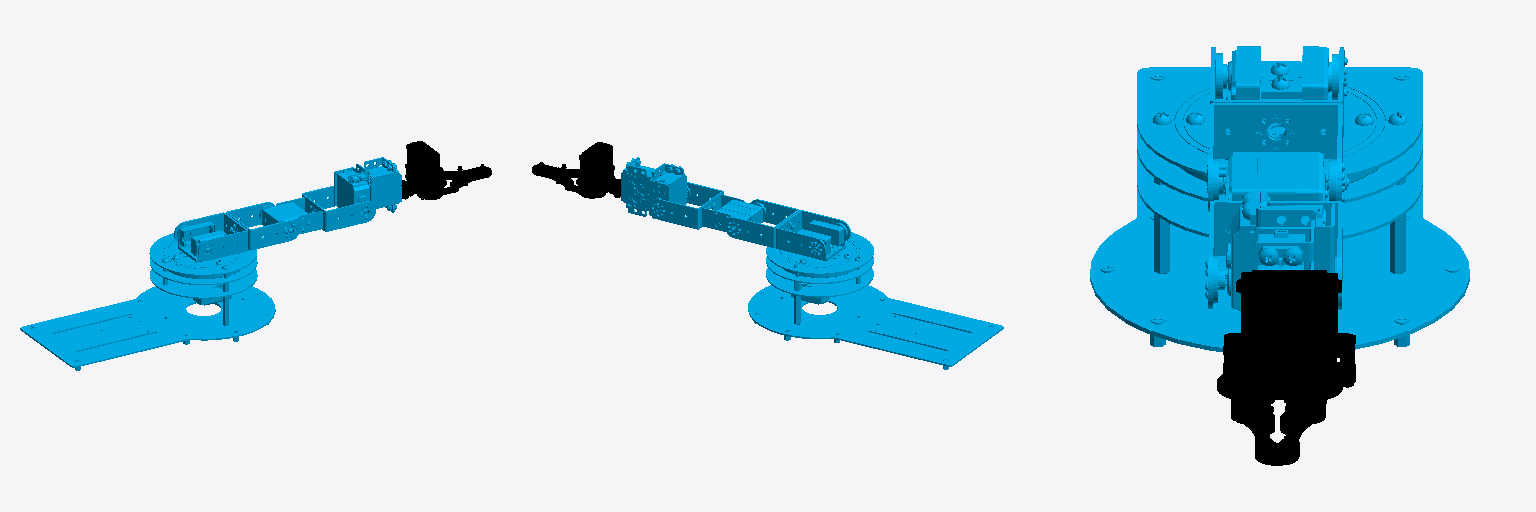
The robot description file, URDF, robot "urdf6":
<?xml version="1.0" encoding="utf-8"?>
<!-- This URDF was automatically created by SolidWorks to URDF Exporter! Originally created by [author] ([email redacted]) 
     Commit Version: 1.6.0-4-g7f85cfe  Build Version: 1.6.7995.38578
     For more information, please see http://wiki.ros.org/sw_urdf_exporter -->
<robot
  name="urdf6">
  <link
    name="base_link">
    <inertial>
      <origin
        xyz="-0.0248612900720648 5.15808425791738E-05 0.0257005781501831"
        rpy="0 0 0" />
      <mass
        value="0.157989247991023" />
      <inertia
        ixx="0.000160717268136009"
        ixy="-2.26359279519278E-08"
        ixz="1.13261604662229E-08"
        iyy="0.000484569759943897"
        iyz="-1.63837544373435E-09"
        izz="0.000642058115947469" />
    </inertial>
    <visual>
      <origin
        xyz="0 0 0"
        rpy="0 0 0" />
      <geometry>
        <mesh
          filename="package://urdf6/meshes/base_link.STL" />
      </geometry>
      <material
        name="blue">
        <color
          rgba="0 0.74902 1 1" />
      </material>
    </visual>
    <collision>
      <origin
        xyz="0 0 0"
        rpy="0 0 0" />
      <geometry>
        <mesh
          filename="package://urdf6/meshes/base_link.STL" />
      </geometry>
    </collision>
  </link>
  <link
    name="Link1">
    <inertial>
      <origin
        xyz="-0.000735950729075396 -0.00316450461559438 -0.0132139086245518"
        rpy="0 0 0" />
      <mass
        value="0.0334862007928614" />
      <inertia
        ixx="7.54519340378767E-06"
        ixy="2.73646800681559E-08"
        ixz="-7.77028147299162E-09"
        iyy="8.84236560262188E-06"
        iyz="5.68927785619994E-11"
        izz="1.52828353460216E-05" />
    </inertial>
    <visual>
      <origin
        xyz="0 0 0"
        rpy="0 0 0" />
      <geometry>
        <mesh
          filename="package://urdf6/meshes/Link1.STL" />
      </geometry>
      <material
        name="blue">
      </material>
    </visual>
    <collision>
      <origin
        xyz="0 0 0"
        rpy="0 0 0" />
      <geometry>
        <mesh
          filename="package://urdf6/meshes/Link1.STL" />
      </geometry>
    </collision>
  </link>
  <joint
    name="joint1"
    type="revolute">
    <origin
      xyz="0 0 0.0855"
      rpy="0 0 0" />
    <parent
      link="base_link" />
    <child
      link="Link1" />
    <axis
      xyz="0 0 -1" />
    <limit
      lower="-3.14"
      upper="3.14"
      effort="100"
      velocity="1" />
  </joint>
  <link
    name="Link2">
    <inertial>
      <origin
        xyz="0.0535085313222871 1.2430559344051E-05 0.000405763386037301"
        rpy="0 0 0" />
      <mass
        value="0.0204399399320765" />
      <inertia
        ixx="1.04032800294958E-05"
        ixy="-3.10679600529331E-12"
        ixz="1.32975907417748E-13"
        iyy="1.58509378070645E-05"
        iyz="-1.08271171402781E-13"
        izz="7.34430021365749E-06" />
    </inertial>
    <visual>
      <origin
        xyz="0 0 0"
        rpy="0 0 0" />
      <geometry>
        <mesh
          filename="package://urdf6/meshes/Link2.STL" />
      </geometry>
      <material
        name="blue">
      </material>
    </visual>
    <collision>
      <origin
        xyz="0 0 0"
        rpy="0 0 0" />
      <geometry>
        <mesh
          filename="package://urdf6/meshes/Link2.STL" />
      </geometry>
    </collision>
  </link>
  <joint
    name="joint2"
    type="revolute">
    <origin
      xyz="-0.01051 -0.00099669 0"
      rpy="1.5708 0 -0.0098339" />
    <parent
      link="Link1" />
    <child
      link="Link2" />
    <axis
      xyz="0 0 -1" />
    <limit
      lower="-3.14"
      upper="3.14"
      effort="100"
      velocity="1" />
  </joint>
  <link
    name="Link3">
    <inertial>
      <origin
        xyz="0.0254175480844936 1.19225680822038E-05 0.00190273362822913"
        rpy="0 0 0" />
      <mass
        value="0.0387990887903957" />
      <inertia
        ixx="7.43835597014779E-06"
        ixy="4.87801495765705E-11"
        ixz="-4.08628986204796E-08"
        iyy="1.29675618559888E-05"
        iyz="1.35888926807635E-11"
        izz="8.45420506775468E-06" />
    </inertial>
    <visual>
      <origin
        xyz="0 0 0"
        rpy="0 0 0" />
      <geometry>
        <mesh
          filename="package://urdf6/meshes/Link3.STL" />
      </geometry>
      <material
        name="blue">
      </material>
    </visual>
    <collision>
      <origin
        xyz="0 0 0"
        rpy="0 0 0" />
      <geometry>
        <mesh
          filename="package://urdf6/meshes/Link3.STL" />
      </geometry>
    </collision>
  </link>
  <joint
    name="joint3"
    type="revolute">
    <origin
      xyz="0.105 0 0"
      rpy="0 0 0" />
    <parent
      link="Link2" />
    <child
      link="Link3" />
    <axis
      xyz="0 0 1" />
    <limit
      lower="-3.14"
      upper="3.14"
      effort="100"
      velocity="1" />
  </joint>
  <link
    name="Link4">
    <inertial>
      <origin
        xyz="0.0195643885060111 0.00914096530036936 -0.00314518841617958"
        rpy="0 0 0" />
      <mass
        value="0.0366516746618713" />
      <inertia
        ixx="8.54154281167733E-06"
        ixy="2.77261542132462E-08"
        ixz="-5.29341522740372E-11"
        iyy="3.95291889014158E-06"
        iyz="3.07200810333053E-08"
        izz="8.5438139374943E-06" />
    </inertial>
    <visual>
      <origin
        xyz="0 0 0"
        rpy="0 0 0" />
      <geometry>
        <mesh
          filename="package://urdf6/meshes/Link4.STL" />
      </geometry>
      <material
        name="blue">
      </material>
    </visual>
    <collision>
      <origin
        xyz="0 0 0"
        rpy="0 0 0" />
      <geometry>
        <mesh
          filename="package://urdf6/meshes/Link4.STL" />
      </geometry>
    </collision>
  </link>
  <joint
    name="joint4"
    type="revolute">
    <origin
      xyz="0.097298 5.0253E-05 -0.00099975"
      rpy="0 0 0" />
    <parent
      link="Link3" />
    <child
      link="Link4" />
    <axis
      xyz="0 0 -1" />
    <limit
      lower="-3.14"
      upper="3.14"
      effort="100"
      velocity="1" />
  </joint>
  <link
    name="Link5">
    <inertial>
      <origin
        xyz="0.0252800488780501 0.0128997070326028 -0.00330175268148962"
        rpy="0 0 0" />
      <mass
        value="0.0211723688311251" />
      <inertia
        ixx="3.37186721095533E-06"
        ixy="-2.35952105335188E-10"
        ixz="2.13797532983925E-08"
        iyy="4.17684129038303E-06"
        iyz="-2.92499805972119E-08"
        izz="1.66712173678932E-06" />
    </inertial>
    <visual>
      <origin
        xyz="0 0 0"
        rpy="0 0 0" />
      <geometry>
        <mesh
          filename="package://urdf6/meshes/Link5.STL" />
      </geometry>
      <material
        name="black">
        <color
          rgba="0 0 0 1" />
      </material>
    </visual>
    <collision>
      <origin
        xyz="0 0 0"
        rpy="0 0 0" />
      <geometry>
        <mesh
          filename="package://urdf6/meshes/Link5.STL" />
      </geometry>
    </collision>
  </link>
  <joint
    name="joint5"
    type="revolute">
    <origin
      xyz="0.065251 0 -0.0027894"
      rpy="0 0 0" />
    <parent
      link="Link4" />
    <child
      link="Link5" />
    <axis
      xyz="-1 0 0" />
    <limit
      lower="-3.14"
      upper="3.14"
      effort="100"
      velocity="1" />
  </joint>
  <link
    name="end_Link0">
    <inertial>
      <origin
        xyz="0.0296355356162469 -0.00397124998648044 0.00440759832825444"
        rpy="0 0 0" />
      <mass
        value="0.00649143270956223" />
      <inertia
        ixx="1.72929729416573E-07"
        ixy="1.53689854473001E-07"
        ixz="5.37299412933256E-14"
        iyy="1.14018601979861E-06"
        iyz="-1.05537817237379E-14"
        izz="1.27470848029133E-06" />
    </inertial>
    <visual>
      <origin
        xyz="0 0 0"
        rpy="0 0 0" />
      <geometry>
        <mesh
          filename="package://urdf6/meshes/end_Link0.STL" />
      </geometry>
      <material
        name="black">
      </material>
    </visual>
    <collision>
      <origin
        xyz="0 0 0"
        rpy="0 0 0" />
      <geometry>
        <mesh
          filename="package://urdf6/meshes/end_Link0.STL" />
      </geometry>
    </collision>
  </link>
  <joint
    name="joint6"
    type="revolute">
    <origin
      xyz="0.026999 -0.00725 -0.013999"
      rpy="-1.5708 0.020997 0" />
    <parent
      link="Link5" />
    <child
      link="end_Link0" />
    <axis
      xyz="0 0 1" />
    <limit
      lower="-3.14"
      upper="3.14"
      effort="100"
      velocity="1" />
  </joint>
  <link
    name="end_Link1">
    <inertial>
      <origin
        xyz="-0.00281905203025795 0.0328600462263071 0.00442907072834259"
        rpy="0 0 0" />
      <mass
        value="0.00560091112281502" />
      <inertia
        ixx="1.13574655762712E-06"
        ixy="1.18143874272952E-07"
        ixz="9.2160252198066E-18"
        iyy="1.46465449142981E-07"
        iyz="-5.57775855618771E-18"
        izz="1.25089272976756E-06" />
    </inertial>
    <visual>
      <origin
        xyz="0 0 0"
        rpy="0 0 0" />
      <geometry>
        <mesh
          filename="package://urdf6/meshes/end_Link1.STL" />
      </geometry>
      <material
        name="black">
      </material>
    </visual>
    <collision>
      <origin
        xyz="0 0 0"
        rpy="0 0 0" />
      <geometry>
        <mesh
          filename="package://urdf6/meshes/end_Link1.STL" />
      </geometry>
    </collision>
  </link>
  <joint
    name="joint7"
    type="revolute">
    <origin
      xyz="0.027 -0.00725 0.014"
      rpy="-1.5708 -1.561 0" />
    <parent
      link="Link5" />
    <child
      link="end_Link1" />
    <axis
      xyz="0 0 -1" />
    <limit
      lower="-3.14"
      upper="3.14"
      effort="100"
      velocity="1" />
  </joint>
</robot>

--- What the picture shows (computed from the rendered views, not written in the file) ---
The picture shows the robot from 3 angles, left to right: view 1: azimuth 30°, elevation 25°; view 2: azimuth 150°, elevation 25°; view 3: azimuth 270°, elevation 25°; orthographic projection.
Robot: urdf6 — 8 links, 7 joints (7 revolute); root link base_link; default pose: all joints at 0.
Visible links, largest first — view 1: base_link, Link2, Link3, Link4, Link5, Link1, end_Link1; view 2: base_link, Link2, Link3, Link4, Link5, Link1, end_Link0; view 3: base_link, Link5, Link2, Link3, Link4, Link1, end_Link0, end_Link1.
Link boxes in pixels (left/top/right/bottom): base_link: left=20, top=233, right=275, bottom=370; Link2: left=174, top=202, right=299, bottom=260; Link3: left=262, top=186, right=375, bottom=234; Link4: left=334, top=157, right=401, bottom=215; Link5: left=401, top=141, right=446, bottom=199; Link1: left=167, top=221, right=239, bottom=267; end_Link1: left=417, top=167, right=491, bottom=199; base_link: left=748, top=232, right=1003, bottom=369; Link2: left=725, top=199, right=850, bottom=258; Link3: left=649, top=182, right=762, bottom=231; Link4: left=621, top=157, right=686, bottom=218; Link5: left=576, top=142, right=620, bottom=197; Link1: left=784, top=220, right=856, bottom=265; end_Link0: left=532, top=165, right=605, bottom=198; base_link: left=1090, top=61, right=1469, bottom=351; Link5: left=1223, top=270, right=1355, bottom=412; Link2: left=1207, top=47, right=1349, bottom=211; Link3: left=1205, top=152, right=1342, bottom=309; Link4: left=1225, top=186, right=1334, bottom=310; Link1: left=1184, top=46, right=1375, bottom=151; end_Link0: left=1276, top=374, right=1342, bottom=465; end_Link1: left=1217, top=374, right=1280, bottom=465.
Bounding box of the posed robot: 0.5703 × 0.1597 × 0.139 m (x, y, z).
Meshes: 8 distinct files referenced, 8 mesh visuals loaded (8 binary STL).